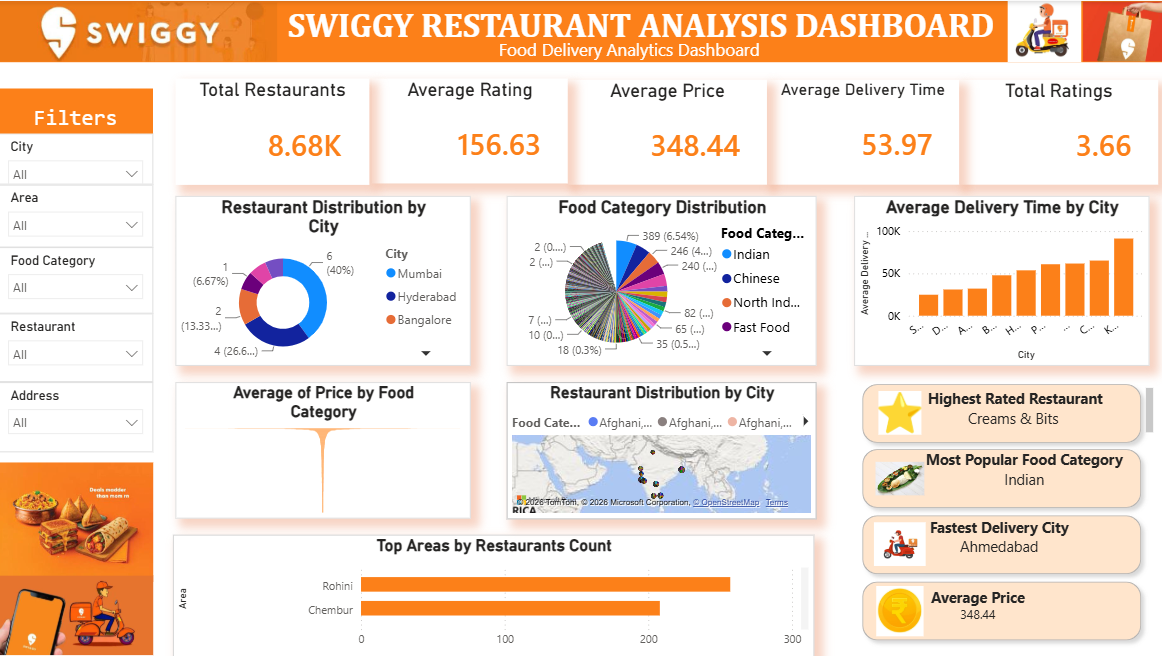

Layout of this report page (visuals, bound fields, positions):
{"tool":"powerbi","page":{"name":"Page 1","canvas":[1280,720],"ordinal":0},"visuals":[{"type":"shape","box":[0,0,1280.3,67.2],"z":0},{"type":"image","box":[0,0,306,67.2],"z":1000},{"type":"textbox","box":[216.8,0,978.4,67.2],"z":2000},{"type":"textbox","box":[544.8,35.7,366.4,63.1],"z":3000},{"type":"cardVisual","title":"Total Ratings","fields":{"Data":["Avg(swiggy.Average Rating)"]},"box":[1055.2,86.4,218.2,115.3],"z":4000},{"type":"cardVisual","title":"Average Delivery Time","fields":{"Data":["Avg(swiggy.Delivery time (Min))"]},"box":[843.9,86.4,211.3,115.3],"z":5000},{"type":"cardVisual","title":"Average Price","fields":{"Data":["Avg(swiggy.Price ($))"]},"box":[625.7,86.4,218.2,115.3],"z":6000},{"type":"cardVisual","title":"Average Rating","fields":{"Data":["Avg(swiggy.Total ratings)"]},"box":[410.3,85.1,215.4,115.3],"z":7000},{"type":"cardVisual","title":"Total Restaurants","fields":{"Data":["CountNonNull(swiggy.ID)"]},"box":[194.9,85.1,212.7,116.6],"z":8000},{"type":"slicer","fields":{"Values":["swiggy.City"]},"box":[0,145.5,170.2,56.3],"z":9000},{"type":"slicer","fields":{"Values":["swiggy.Area"]},"box":[0,201.7,170.2,68.6],"z":10000},{"type":"slicer","fields":{"Values":["swiggy.Food Category"]},"box":[0,270.3,170.2,72.7],"z":11000},{"type":"slicer","fields":{"Values":["swiggy.Restaurant"]},"box":[0,343.1,170.2,75.5],"z":12000},{"type":"slicer","fields":{"Values":["swiggy.Address"]},"box":[0,418.5,170.2,76.8],"z":13000},{"type":"shape","box":[0,96.1,170.2,49.4],"z":14000},{"type":"textbox","box":[0,108.4,170.2,46.7],"z":15000},{"type":"donutChart","title":"Restaurant Distribution by City","fields":{"Category":["swiggy.City"],"Y":["CountNonNull(swiggy.ID)"]},"box":[194.9,214.1,323.8,186.6],"z":16000},{"type":"pieChart","title":"Food Category Distribution","fields":{"Category":["swiggy.Food Category"],"Y":["CountNonNull(swiggy.ID)"]},"box":[558.5,214.1,340.3,186.6],"z":17000},{"type":"funnel","title":"Average of Price by Food Category","fields":{"Category":["swiggy.Food Category"],"Y":["Sum(swiggy.Average Rating)"]},"box":[194.9,418.5,323.8,149.6],"z":18000},{"type":"clusteredColumnChart","title":"Average Delivery Time by City","fields":{"Category":["swiggy.City"],"Y":["Sum(swiggy.Delivery time (Min))"]},"box":[940,214.1,323.8,186.6],"z":19000},{"type":"image","box":[0,495.4,170.2,152.3],"z":20000},{"type":"image","box":[0,628.5,170.2,91.9],"z":21000},{"type":"image","box":[1106,0,85.1,67.2],"z":22000},{"type":"clusteredBarChart","title":"Top Areas by Restaurants Count","fields":{"Category":["swiggy.Area"],"Y":["CountNonNull(swiggy.ID)"]},"box":[192.1,585.9,703.9,134.5],"z":23000},{"type":"shape","box":[940,411.7,323.8,82.3],"z":24000},{"type":"shape","box":[940,483,323.8,82.3],"z":25000},{"type":"shape","box":[940,555.7,323.8,82.3],"z":26000},{"type":"shape","box":[940,628.5,323.8,82.3],"z":27000},{"type":"textbox","box":[963.3,419.9,310.1,64.5],"z":28000},{"type":"textbox","box":[1004.5,487.1,244.3,74.1],"z":29000},{"type":"textbox","box":[949.6,561.2,299.1,56.3],"z":30000},{"type":"textbox","box":[920.8,638.1,310.1,67.2],"z":31000},{"type":"map","title":"Restaurant Distribution by City","fields":{"Category":["swiggy.City"],"Size":["CountNonNull(swiggy.ID)"],"Series":["swiggy.Food Category"]},"box":[558,419,340,150],"z":32000},{"type":"image","box":[1191.1,0,89.2,67.2],"z":33000},{"type":"image","box":[963.3,642.2,53.5,54.9],"z":34000},{"type":"image","box":[963.3,489.9,53.5,68.6],"z":35000},{"type":"image","box":[963.3,428.1,53.5,48],"z":36000},{"type":"image","box":[959.2,572.2,61.7,48],"z":37000}]}

Visuals, with their boxes in screenshot pixels (x1, y1, x2, y2), scaled from the page's 1280x720 canvas onto the 1162x656 screenshot:
shape: x1=0 y1=0 x2=1161 y2=61
image: x1=0 y1=0 x2=278 y2=61
textbox: x1=197 y1=0 x2=1085 y2=61
textbox: x1=495 y1=33 x2=827 y2=90
"Total Ratings" cardVisual: x1=958 y1=79 x2=1156 y2=184
"Average Delivery Time" cardVisual: x1=766 y1=79 x2=958 y2=184
"Average Price" cardVisual: x1=568 y1=79 x2=766 y2=184
"Average Rating" cardVisual: x1=372 y1=78 x2=568 y2=183
"Total Restaurants" cardVisual: x1=177 y1=78 x2=370 y2=184
slicer - swiggy.City: x1=0 y1=133 x2=155 y2=184
slicer - swiggy.Area: x1=0 y1=184 x2=155 y2=246
slicer - swiggy.Food Category: x1=0 y1=246 x2=155 y2=313
slicer - swiggy.Restaurant: x1=0 y1=313 x2=155 y2=381
slicer - swiggy.Address: x1=0 y1=381 x2=155 y2=451
shape: x1=0 y1=88 x2=155 y2=133
textbox: x1=0 y1=99 x2=155 y2=141
"Restaurant Distribution by City" donutChart: x1=177 y1=195 x2=471 y2=365
"Food Category Distribution" pieChart: x1=507 y1=195 x2=816 y2=365
"Average of Price by Food Category" funnel: x1=177 y1=381 x2=471 y2=518
"Average Delivery Time by City" clusteredColumnChart: x1=853 y1=195 x2=1147 y2=365
image: x1=0 y1=451 x2=155 y2=590
image: x1=0 y1=573 x2=155 y2=655
image: x1=1004 y1=0 x2=1081 y2=61
"Top Areas by Restaurants Count" clusteredBarChart: x1=174 y1=534 x2=813 y2=655
shape: x1=853 y1=375 x2=1147 y2=450
shape: x1=853 y1=440 x2=1147 y2=515
shape: x1=853 y1=506 x2=1147 y2=581
shape: x1=853 y1=573 x2=1147 y2=648
textbox: x1=874 y1=383 x2=1156 y2=441
textbox: x1=912 y1=444 x2=1134 y2=511
textbox: x1=862 y1=511 x2=1134 y2=563
textbox: x1=836 y1=581 x2=1117 y2=643
"Restaurant Distribution by City" map: x1=507 y1=382 x2=815 y2=518
image: x1=1081 y1=0 x2=1161 y2=61
image: x1=874 y1=585 x2=923 y2=635
image: x1=874 y1=446 x2=923 y2=509
image: x1=874 y1=390 x2=923 y2=434
image: x1=871 y1=521 x2=927 y2=565
